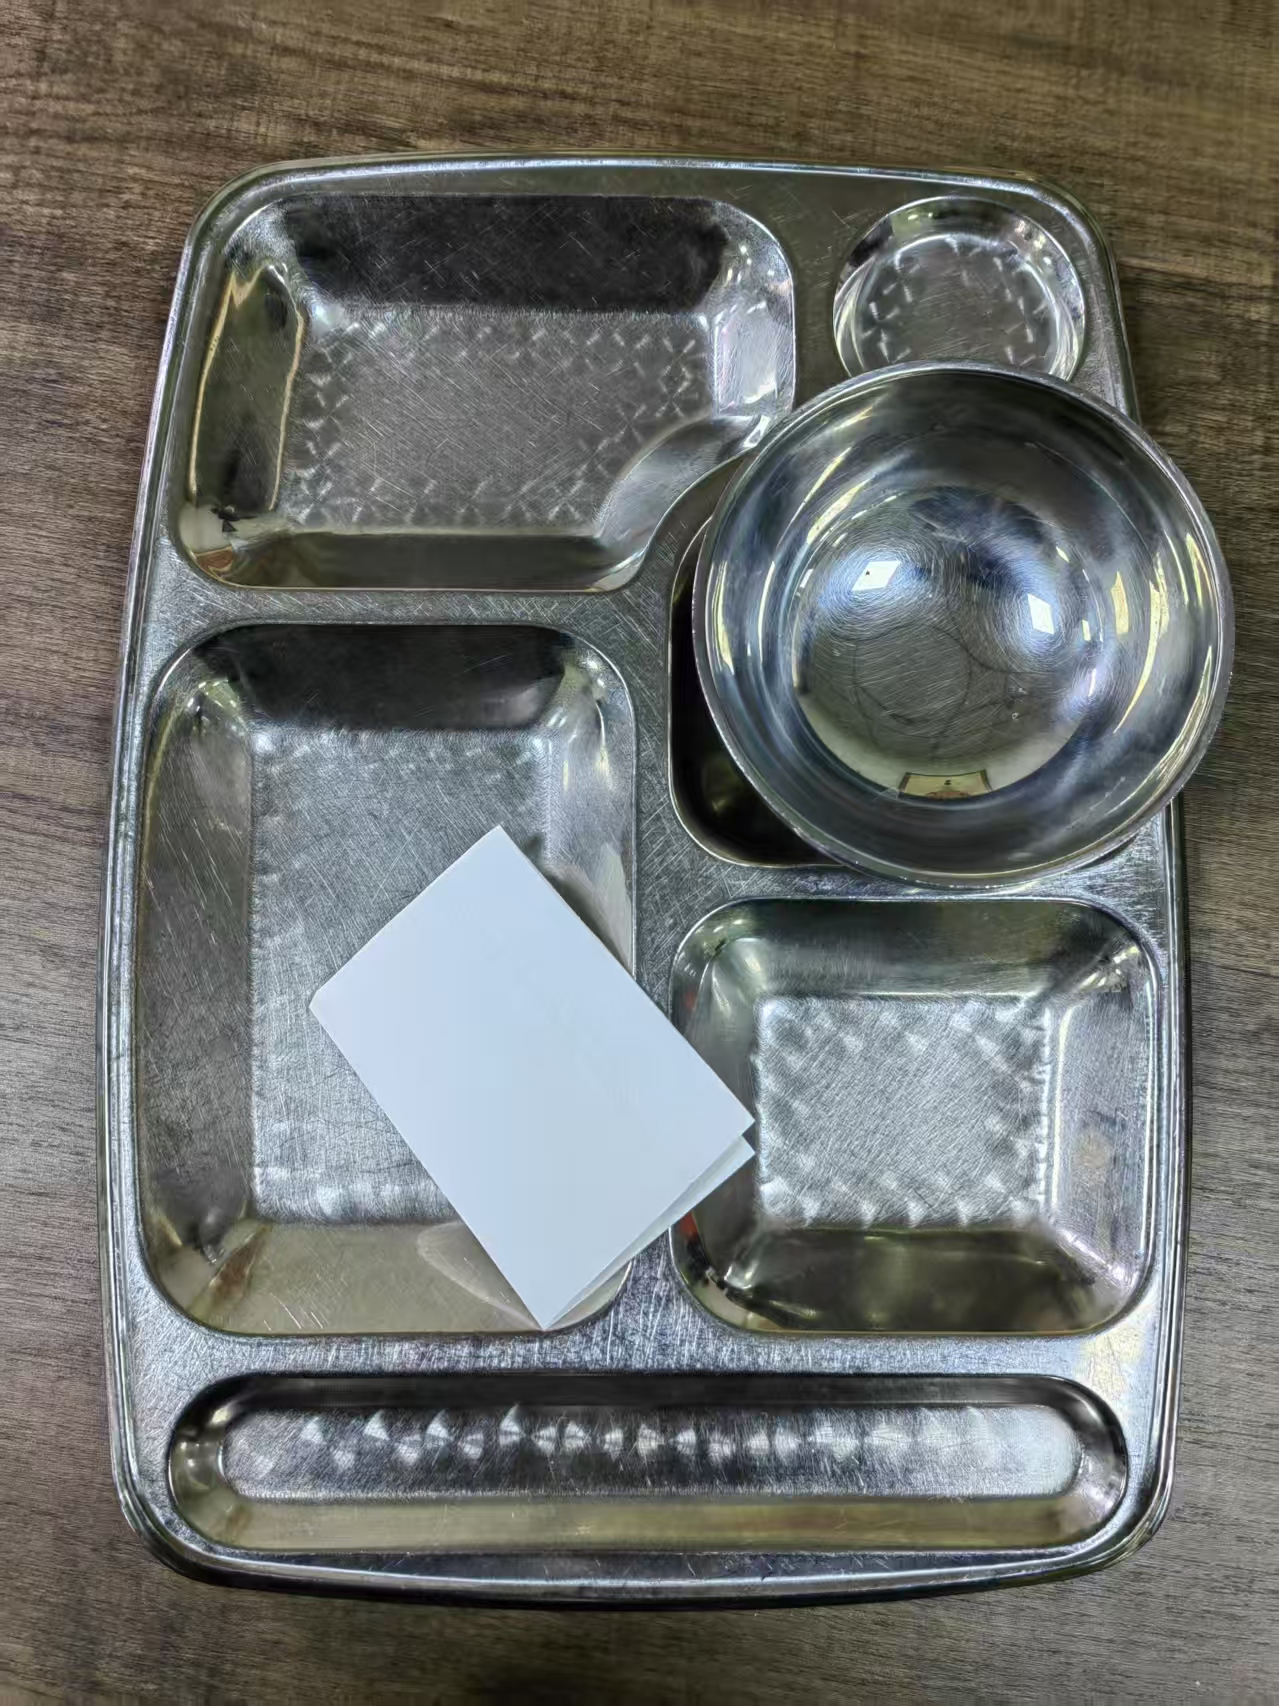plate: (105, 147, 1190, 1616)
tissue: (308, 823, 757, 1323)
